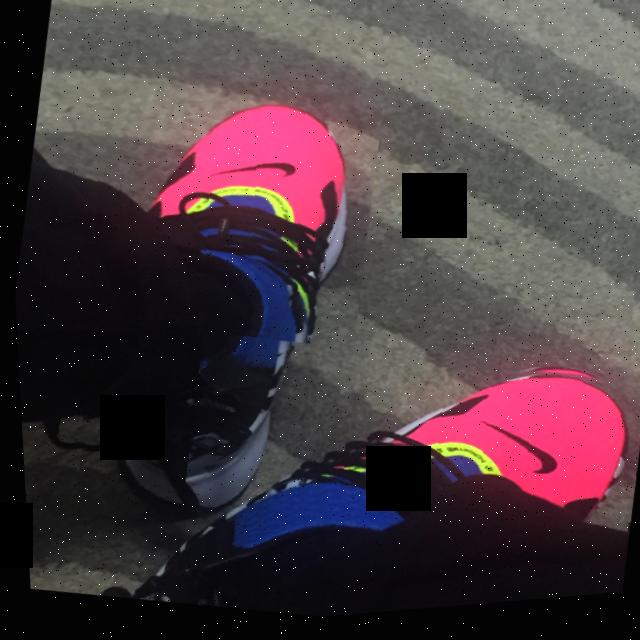shoe: (26, 48, 401, 561), (152, 306, 640, 631)
